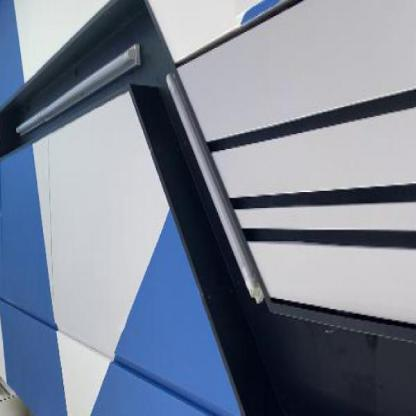light_off: (162, 54, 271, 312), (10, 27, 146, 173)
